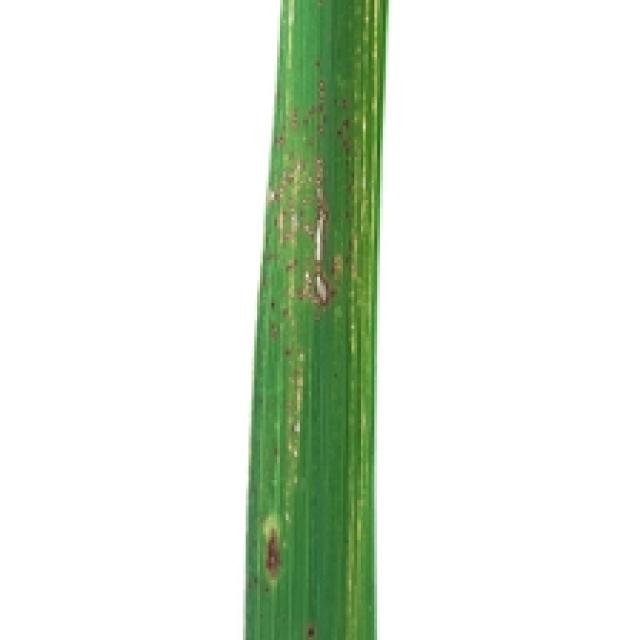Rice___Brown_Spot: (246, 0, 388, 637)
